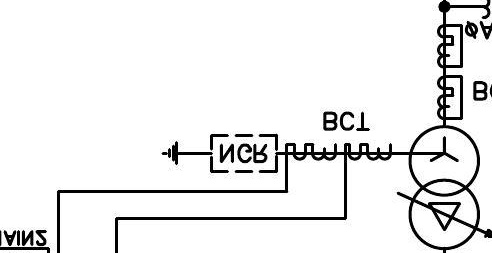11522_tx_dyn1: (408, 124, 481, 251)
NGR_future: (161, 133, 279, 174)
